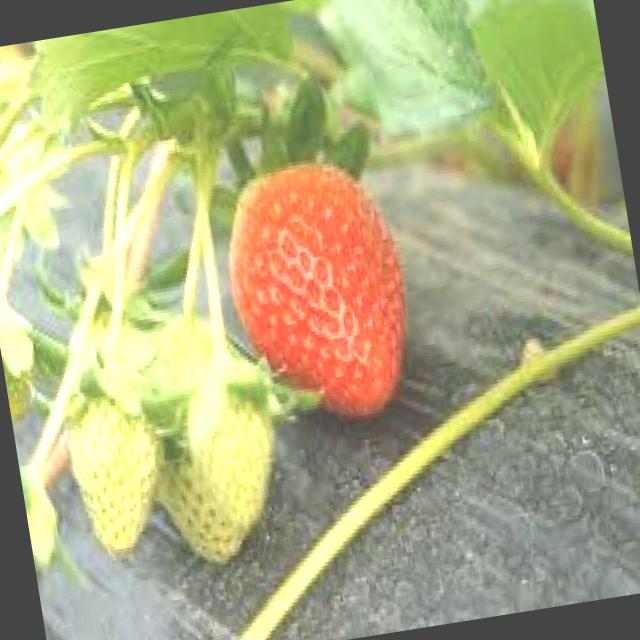Strawberry: (214, 152, 426, 436), (142, 388, 286, 568), (61, 385, 178, 558)
